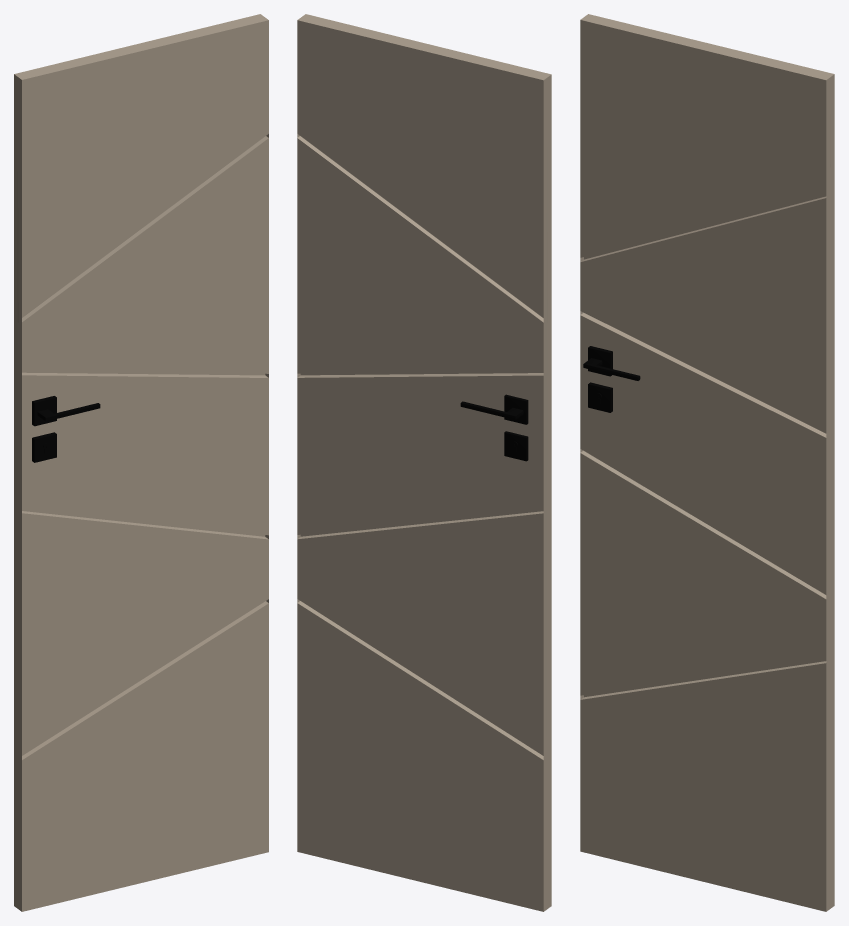
File: RP_3_full2_door.glb
The picture shows the model from 3 angles, left to right: view 1: azimuth 30°, elevation 25°; view 2: azimuth 150°, elevation 25°; view 3: azimuth 330°, elevation 25°; orthographic projection.
Visible parts, largest first — view 1: RP_3__2_door_; view 2: RP_3__2_door_; view 3: RP_3__2_door_.
Boxes of the visible parts, <box> form: RP_3__2_door_: <box>14,14,268,911</box>; RP_3__2_door_: <box>297,14,551,911</box>; RP_3__2_door_: <box>580,14,834,911</box>.
Bounding box in the file's own units: 0.5514 × 1.78 × 0.1089.
Materials: 1 (1 with a texture image).
